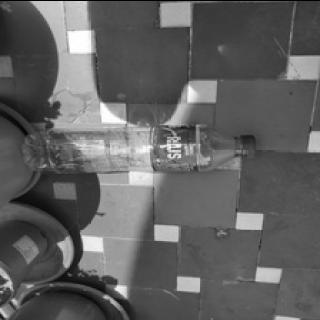plastic_bottles: (16, 114, 261, 178)
